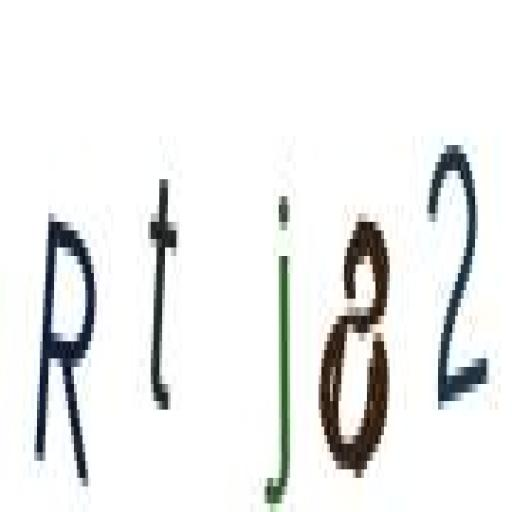2: (422, 135, 502, 420)
8: (315, 190, 396, 489)
R: (31, 206, 99, 501)
j: (261, 156, 300, 510)
t: (142, 160, 182, 430)
